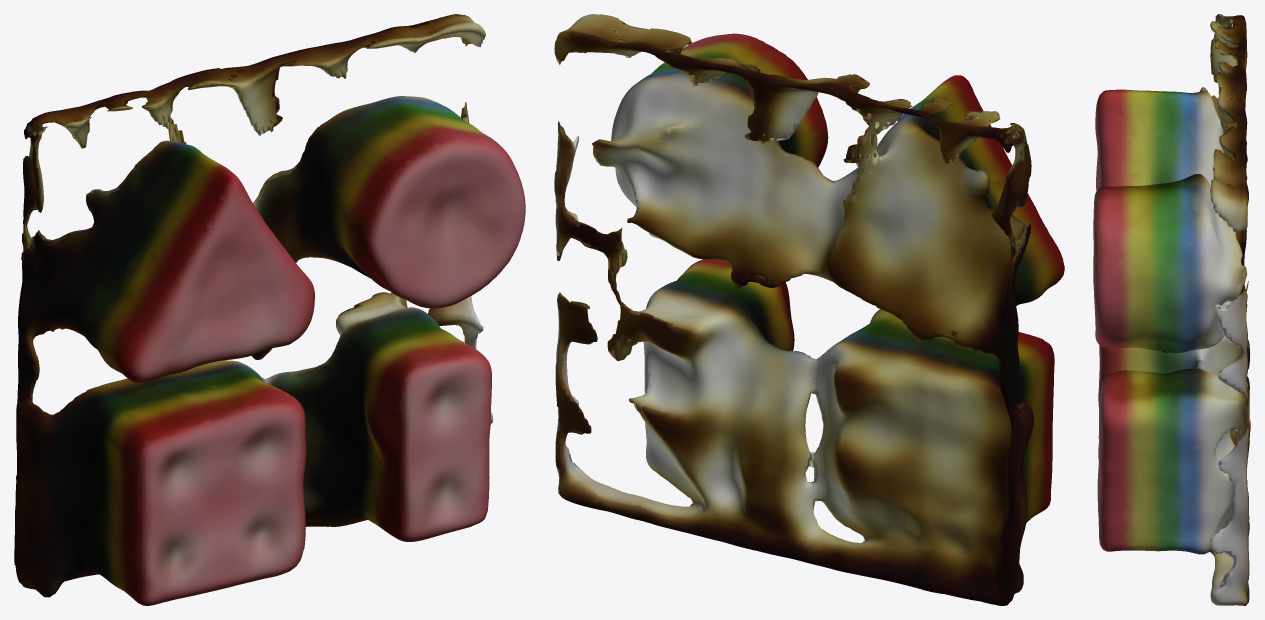
The model's file is sorting_board.glb.
The picture shows the model from 3 angles, left to right: view 1: azimuth 30°, elevation 25°; view 2: azimuth 150°, elevation 25°; view 3: azimuth 270°, elevation 25°; orthographic projection. The views are drawn at different scales.
Bounding box in the file's own units: 0.9997 × 0.9946 × 0.3392.
